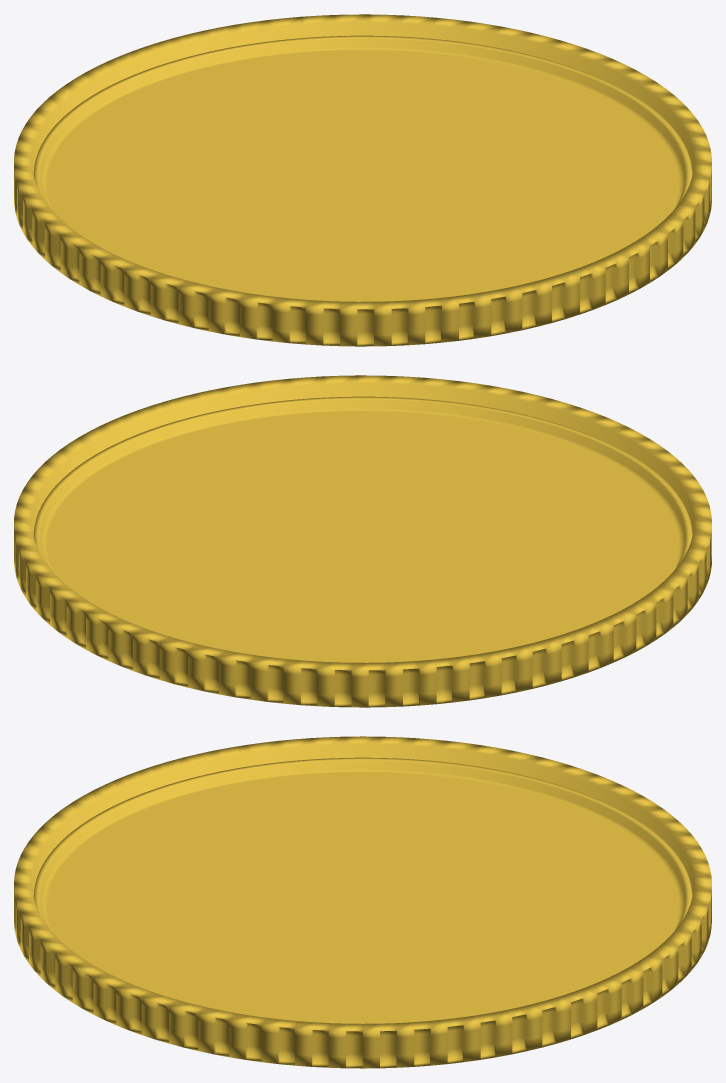
The model's file is coin2.glb.
3 renders of one model, top to bottom at view 1: azimuth 30°, elevation 25°; view 2: azimuth 150°, elevation 25°; view 3: azimuth 270°, elevation 25°, orthographic.
Visible parts, largest first — view 1: Cylinder; view 2: Cylinder; view 3: Cylinder.
Part boxes in pixels (x1,y1,x2,y2): Cylinder: [14, 14, 711, 346]; Cylinder: [14, 375, 711, 707]; Cylinder: [14, 736, 711, 1068].
Bounding box in the file's own units: 2 × 0.1172 × 2.
